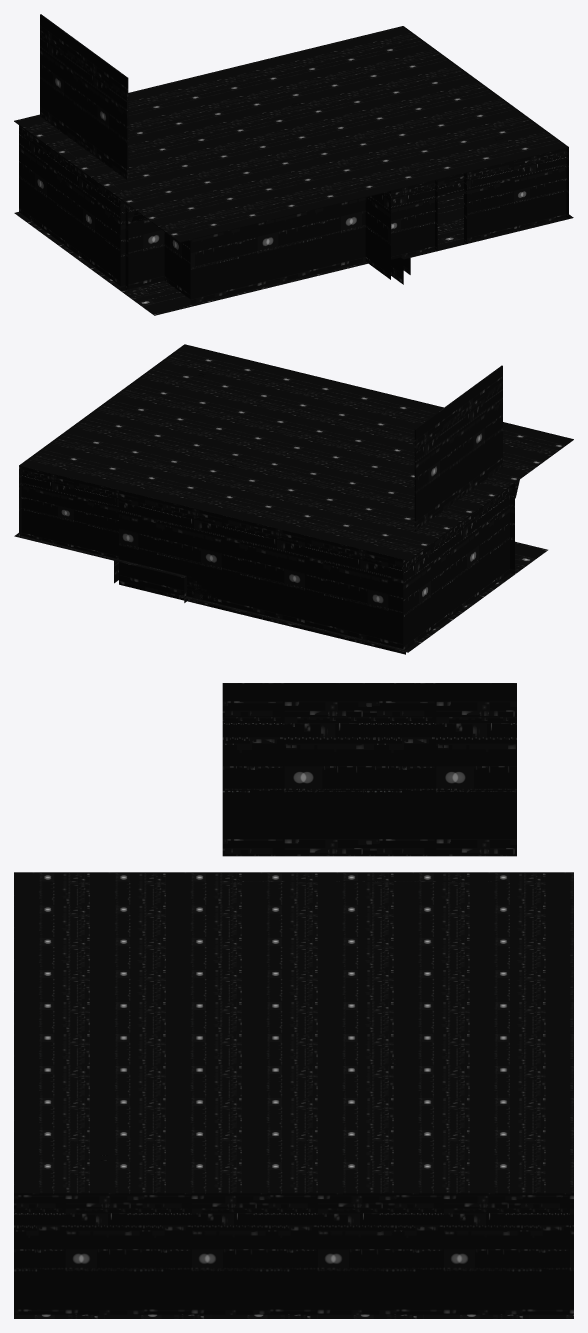
File: room205.obj
3 renders of one model, top to bottom at view 1: azimuth 30°, elevation 25°; view 2: azimuth 150°, elevation 25°; view 3: azimuth 270°, elevation 25°, orthographic. The views are drawn at different scales.
Bounding box in the file's own units: 2592 × 1344 × 1888.
